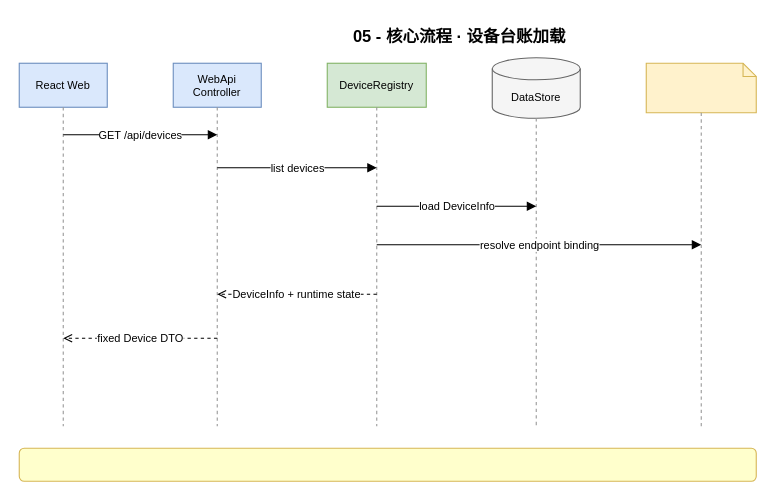
Image size: 776x501. Some labels were removed from this diagram. The shapes that lost their labels are listed below. From the top down, each one's box as (x1, y1, x2, y2) in pixels, then its label:
(645, 62, 756, 113): endpoints.json
(18, 447, 756, 481): 前端加载后端设备台账 · 通信端点由配置驱动 · 设备与端点通过 binding 关联
